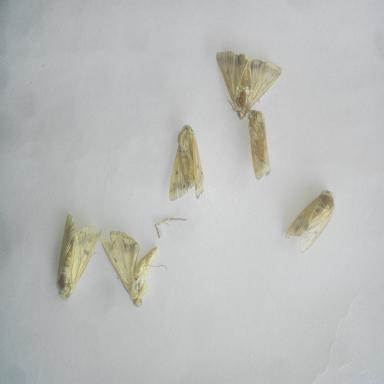abw: (99, 225, 170, 313), (211, 47, 285, 123), (54, 209, 106, 305), (282, 184, 340, 257), (166, 119, 210, 206), (243, 103, 275, 183)
